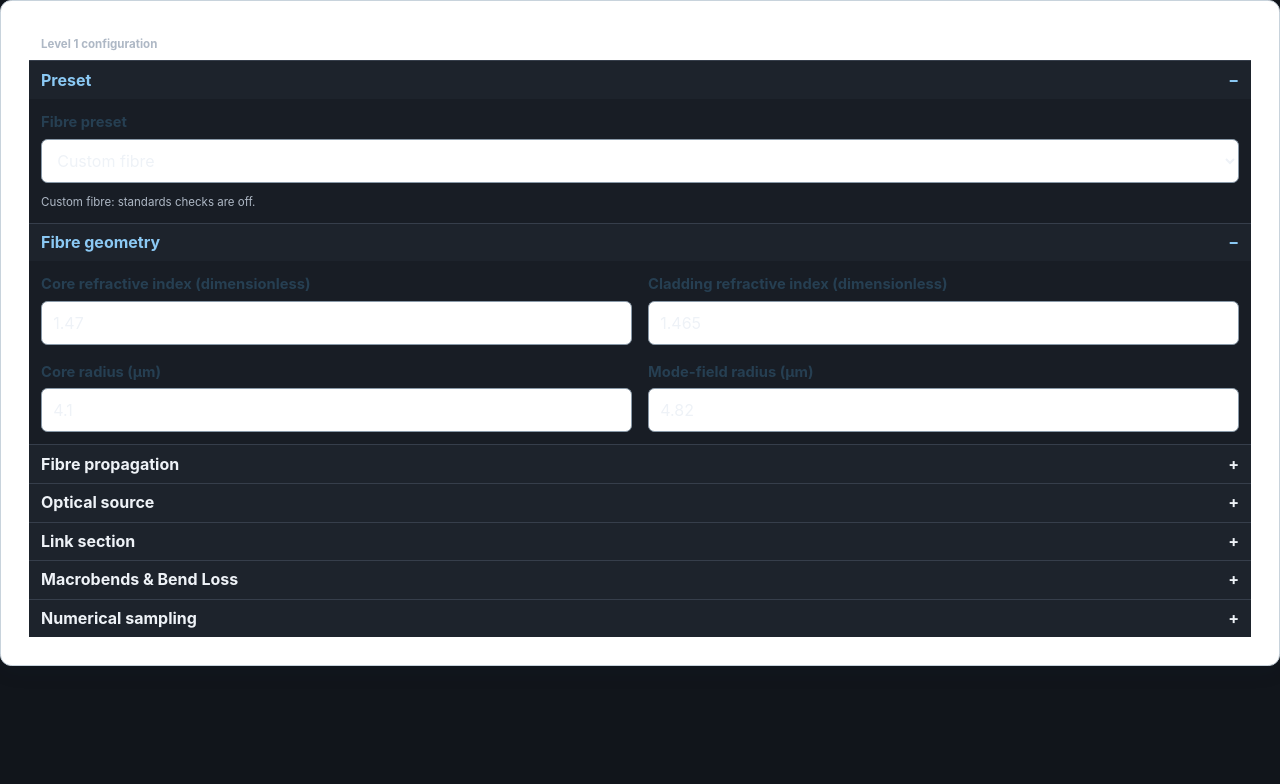
Test: Level1Form inspector accordion › keeps Preset and Fibre geometry expanded initially and toggles accessibly
This screenshot has width=1280, height=784.
Click the button "Optical source +". click: (98, 502)
box: [29,484,1251,522]
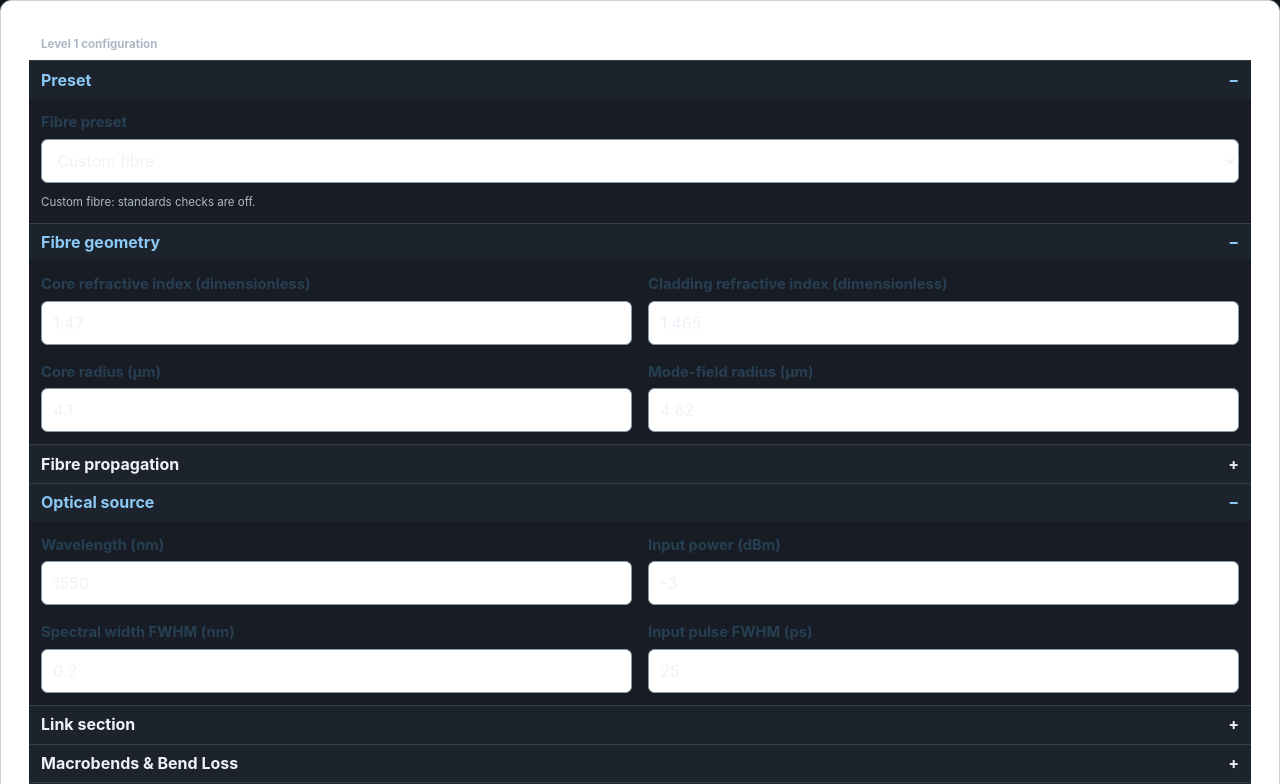
Expected: the button "Optical source −" is expanded
Click the button "Optical source −". click: (98, 502)
box: [29,484,1251,522]
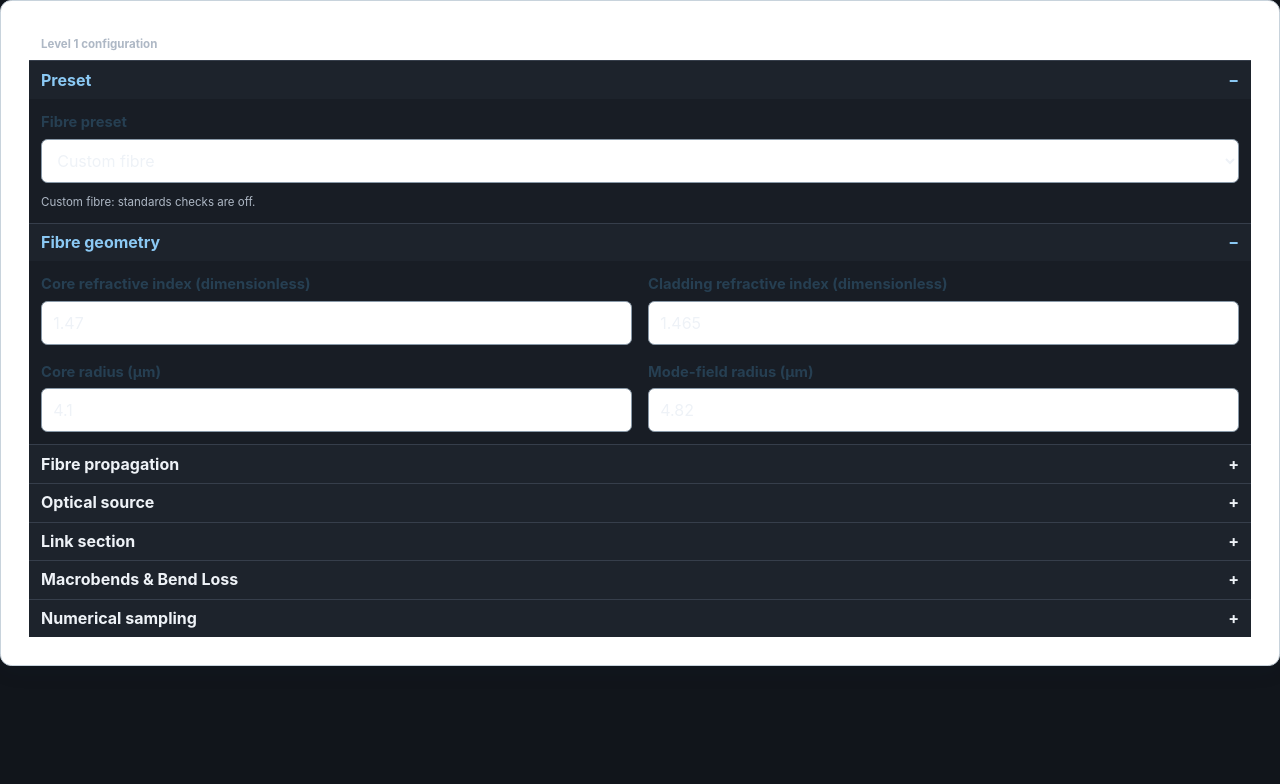
Expected: the button "Optical source +" is collapsed, [29,484,1251,522]
